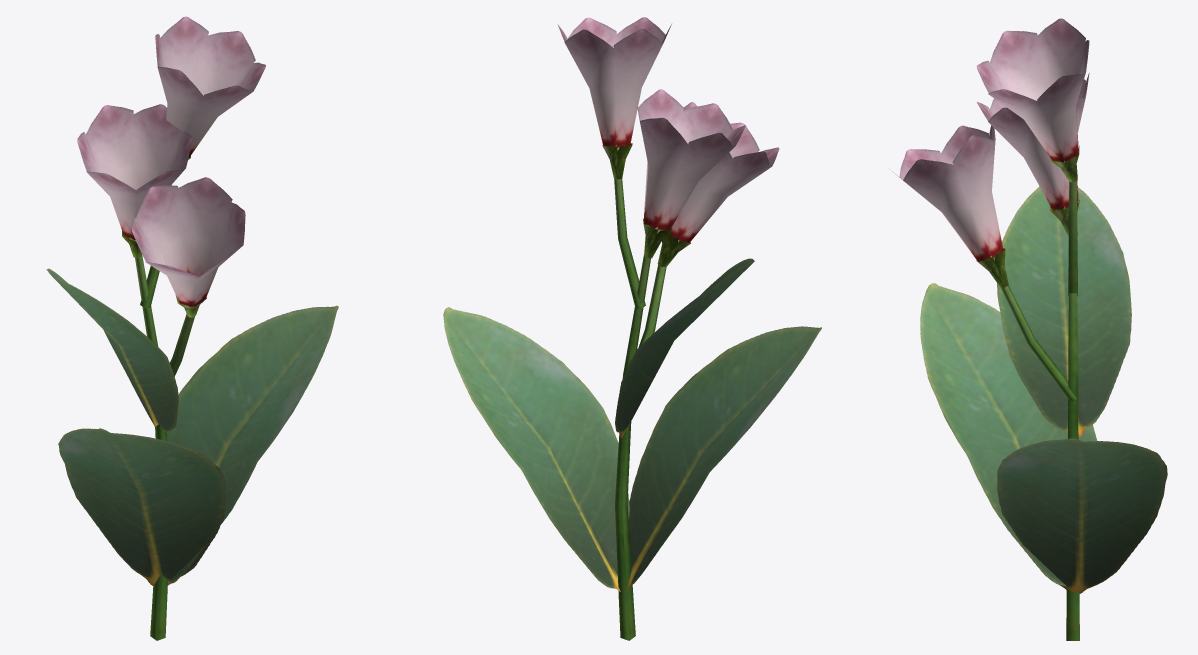
Rendered from bellf2.fbx.
3 views of the same model, side by side, from view 1: azimuth 30°, elevation 25°; view 2: azimuth 150°, elevation 25°; view 3: azimuth 270°, elevation 25° (orthographic).
Parts seen in each view (by area): view 1: bellflower02; view 2: bellflower02; view 3: bellflower02.
Boxes of the visible parts, bbox=[...] form: bellflower02: bbox=[46, 16, 338, 640]; bellflower02: bbox=[443, 17, 821, 640]; bellflower02: bbox=[889, 18, 1167, 640].
Size of the model in its own units: 26.83 by 43.41 by 20.3.
